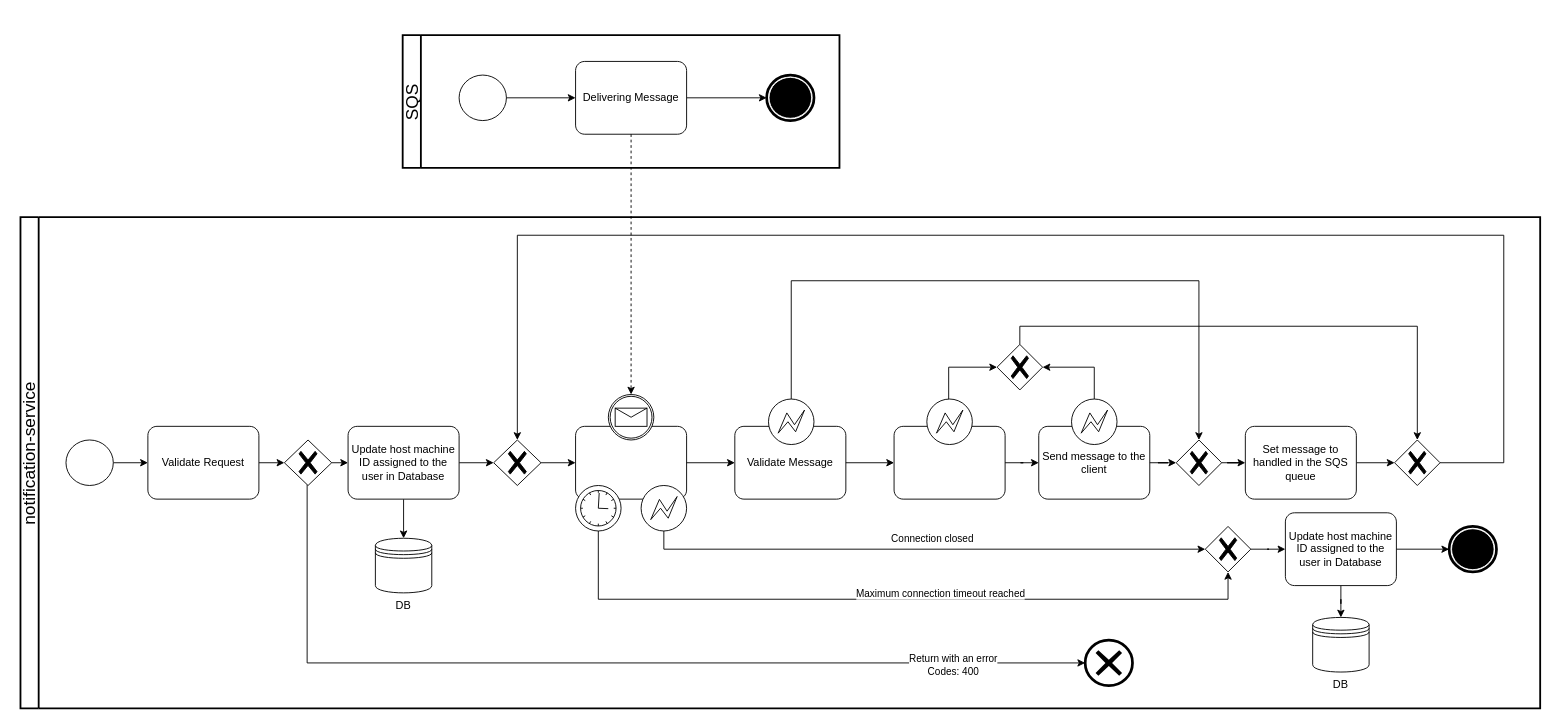
The diagram is 1556 pixels wide and 724 high, and some of its shapes have lost their labels. The shapes that lost their labels are listed below. From the top down, each one's box as (x1, y1, x2, y2) in pixels, then its label:
(458, 74, 506, 121): Publishing Message to the SQS queue (service instance queue)
(65, 439, 113, 485): Request to sign up for notifications
(575, 425, 687, 499): Wait for notifications from SQS intended for the registered client
(893, 425, 1005, 499): Check if the addressee client is connected
